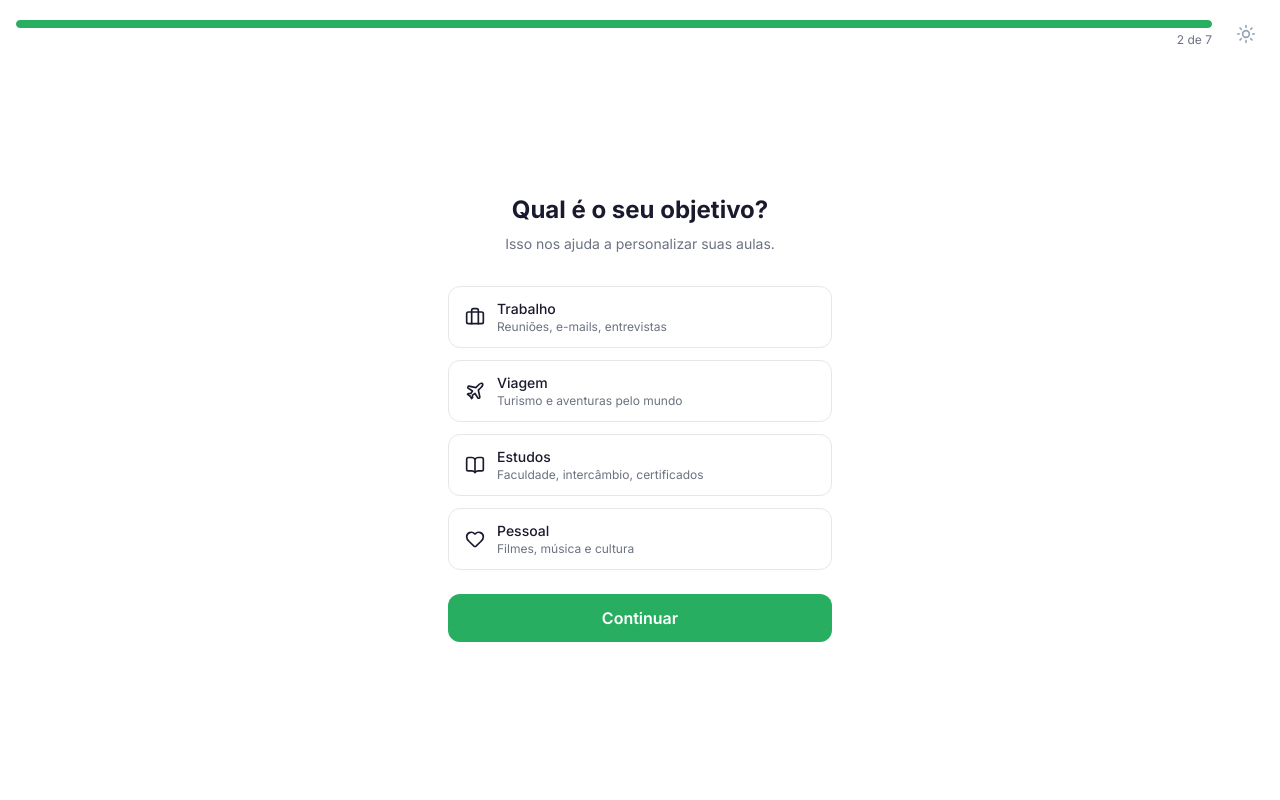
Test: ObjetivoPage › shows error when continuing without selection
The width and height of the screenshot is (1280, 800).
Step 1. Click the button "Continuar" → (640, 618), box [448,594,832,642]
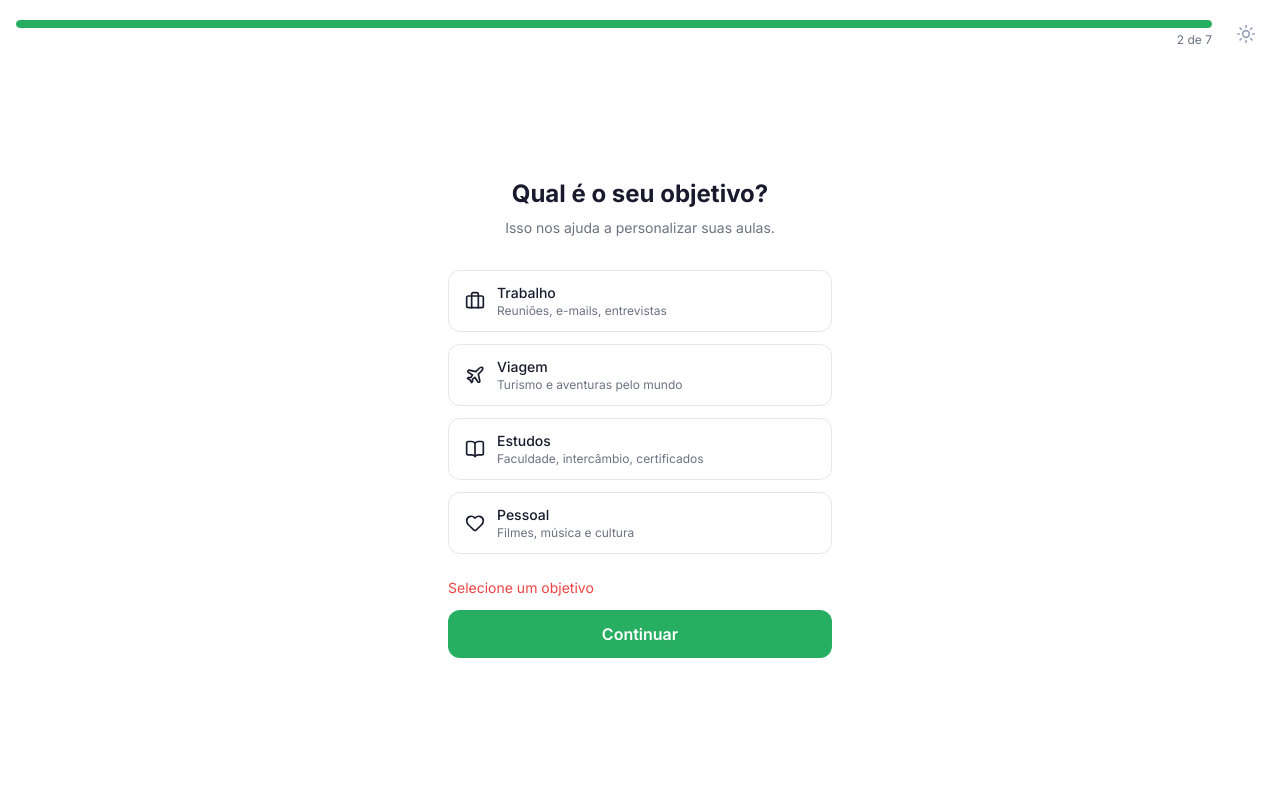
Result: the text "Selecione um objetivo" is shown at [448,579,594,596]
